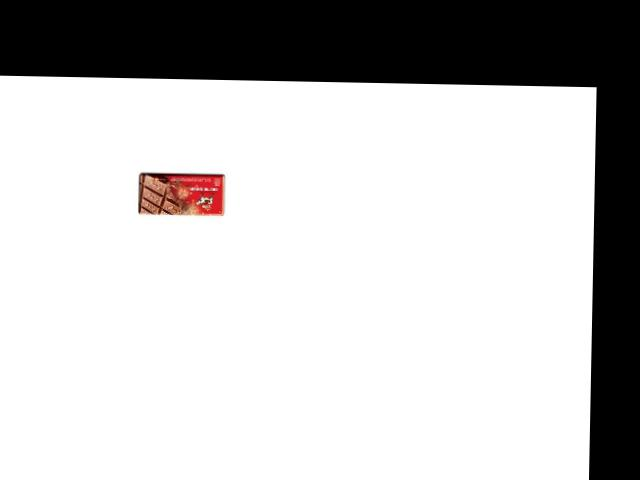chocolate: (136, 171, 226, 217)
